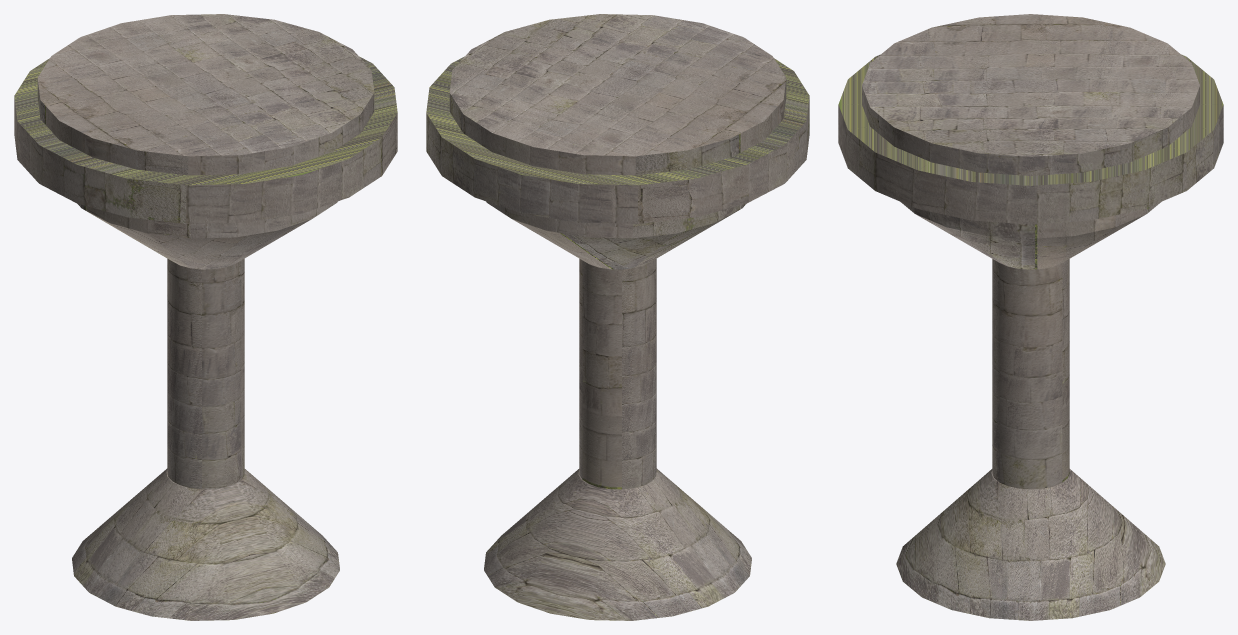
Rendered from platform.fbx.
3 renders of one model, left to right at view 1: azimuth 30°, elevation 25°; view 2: azimuth 150°, elevation 25°; view 3: azimuth 270°, elevation 25°, orthographic.
Visible parts, largest first — view 1: pCylinder8; view 2: pCylinder8; view 3: pCylinder8.
Boxes of the visible parts, <box> form: pCylinder8: <box>14,14,397,620</box>; pCylinder8: <box>426,14,809,620</box>; pCylinder8: <box>838,14,1223,620</box>.
Size of the model in its own units: 20 by 27.42 by 20.
1 material, 1 textured.
